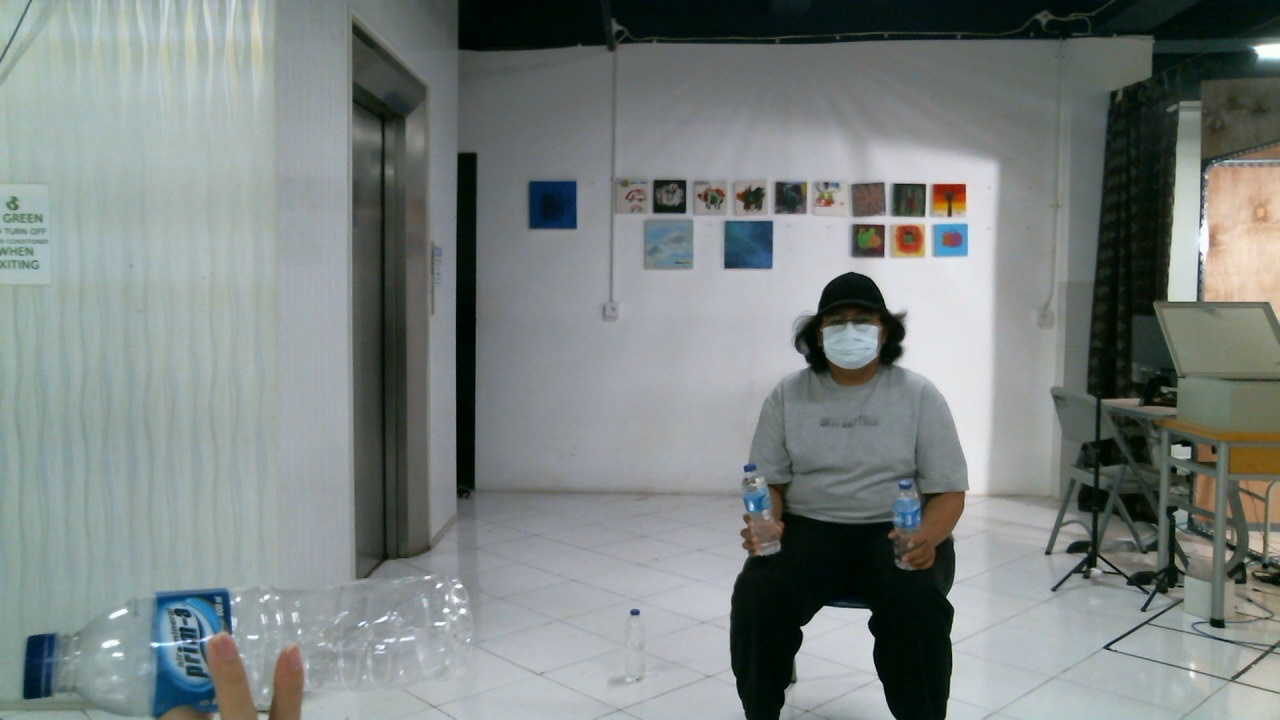Bottle: (23, 573, 478, 711), (740, 463, 782, 557), (891, 480, 923, 569)
